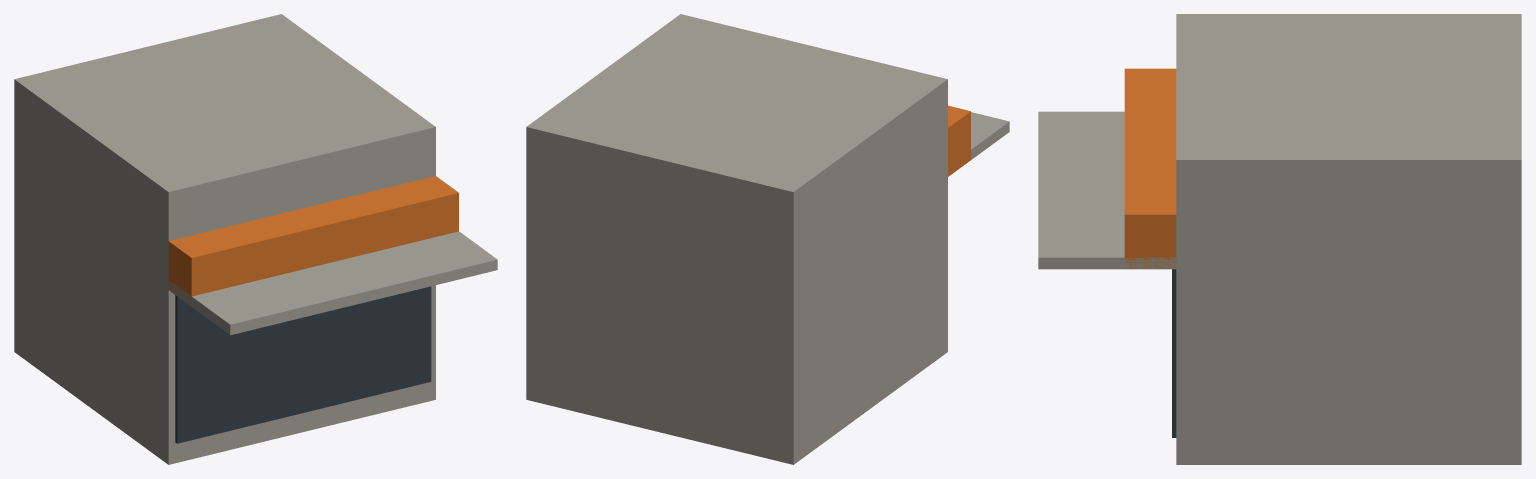
File: open-front.glb
The picture shows the model from 3 angles, left to right: view 1: azimuth 30°, elevation 25°; view 2: azimuth 150°, elevation 25°; view 3: azimuth 270°, elevation 25°; orthographic projection. The views are drawn at different scales.
Parts seen in each view (by area): view 1: open-front; view 2: open-front; view 3: open-front.
Part boxes in pixels (x1,y1,x2,y2): open-front: [14, 14, 497, 464]; open-front: [526, 14, 1009, 464]; open-front: [1038, 14, 1521, 464].
Size of the model in its own units: 4 by 3.9 by 5.6.
